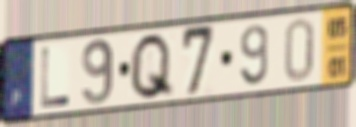0: (282, 15, 316, 86)
7: (180, 24, 217, 101)
9: (80, 37, 115, 107), (239, 23, 270, 88)
L: (39, 46, 72, 111)
Q: (127, 30, 176, 103)
